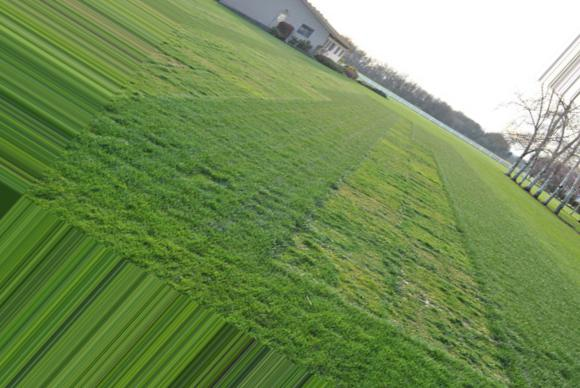patch: (342, 188, 368, 207)
